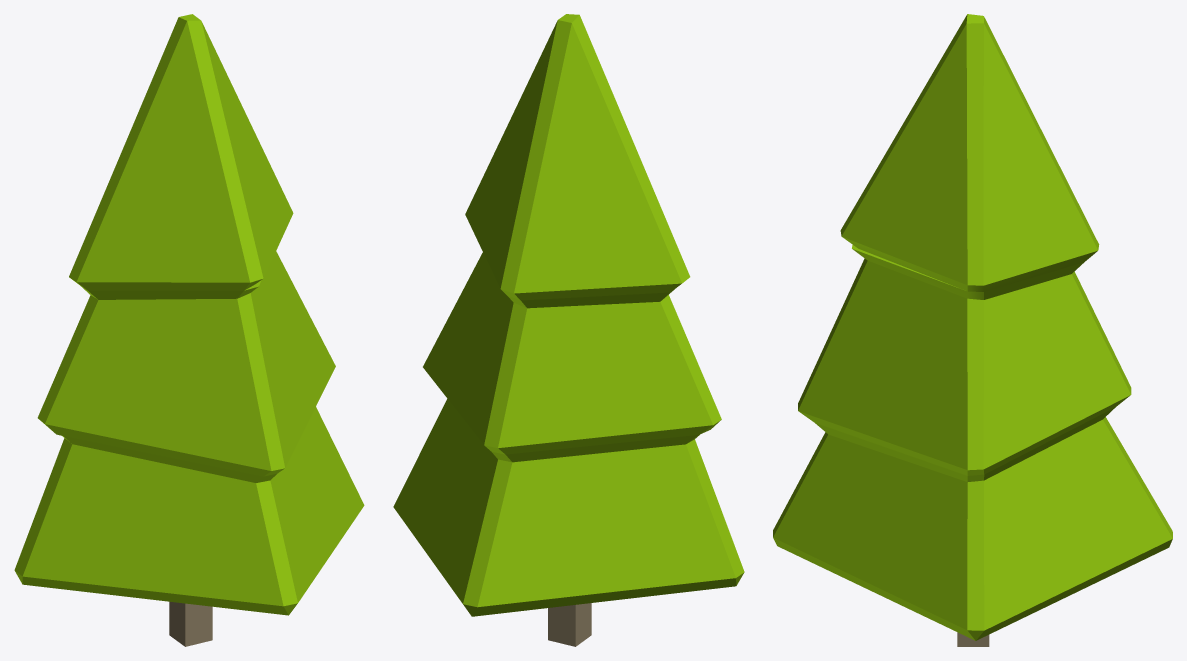
The model's file is pine_skewed_9_bevel.fbx.
3 views of the same model, side by side, from view 1: azimuth 30°, elevation 25°; view 2: azimuth 150°, elevation 25°; view 3: azimuth 270°, elevation 25° (orthographic).
Parts seen in each view (by area): view 1: pine_skewed_9_bevel; view 2: pine_skewed_9_bevel; view 3: pine_skewed_9_bevel.
Part boxes in pixels (x1,y1,x2,y2): pine_skewed_9_bevel: (14, 14, 364, 646); pine_skewed_9_bevel: (393, 14, 744, 646); pine_skewed_9_bevel: (773, 14, 1172, 646).
Size of the model in its own units: 150 by 261 by 152.
